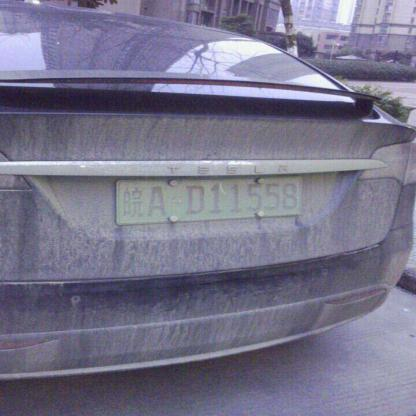lp: (119, 177, 300, 222)
